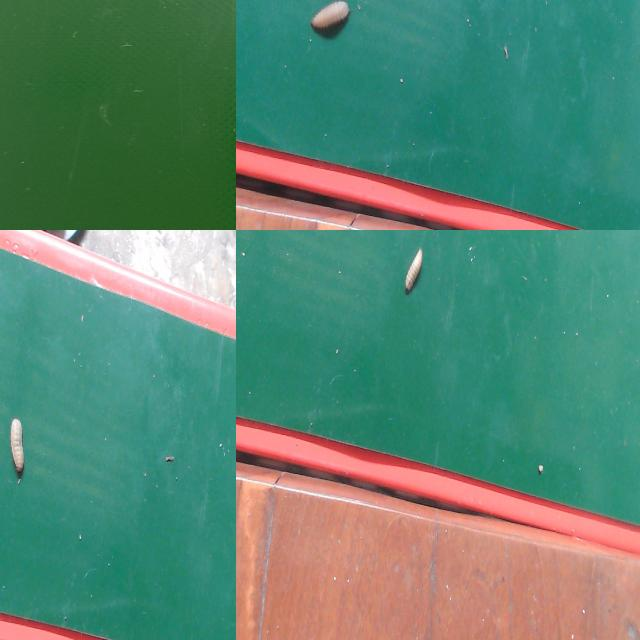Maggot: (308, 0, 353, 42), (401, 246, 427, 296), (8, 420, 26, 478)
